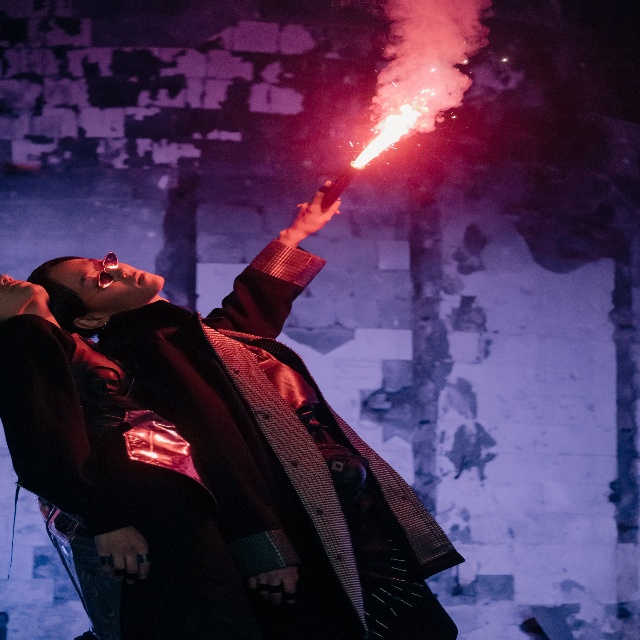Gafas: (95, 248, 118, 290)
Sin_guantes: (93, 528, 150, 588), (286, 177, 340, 231)
